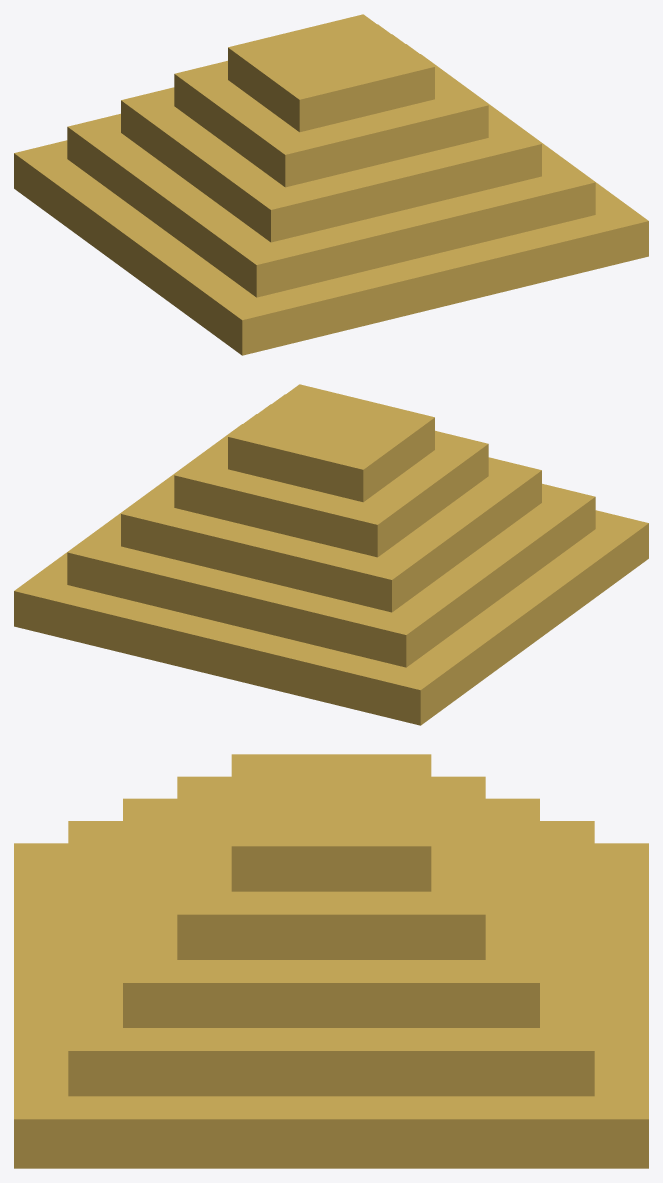
File: rice_straw_hat.glb
3 views of the same model, one above another, from view 1: azimuth 30°, elevation 25°; view 2: azimuth 150°, elevation 25°; view 3: azimuth 270°, elevation 25° (orthographic). The views are drawn at different scales.
Parts seen in each view (by area): view 1: rice_straw_hat; view 2: rice_straw_hat; view 3: rice_straw_hat.
Boxes of the visible parts, box(x1,y1,x2,y2) form: rice_straw_hat: box(14, 14, 648, 355); rice_straw_hat: box(14, 384, 648, 725); rice_straw_hat: box(14, 754, 648, 1168).
Size of the model in its own units: 0.72 by 0.28 by 0.7.
